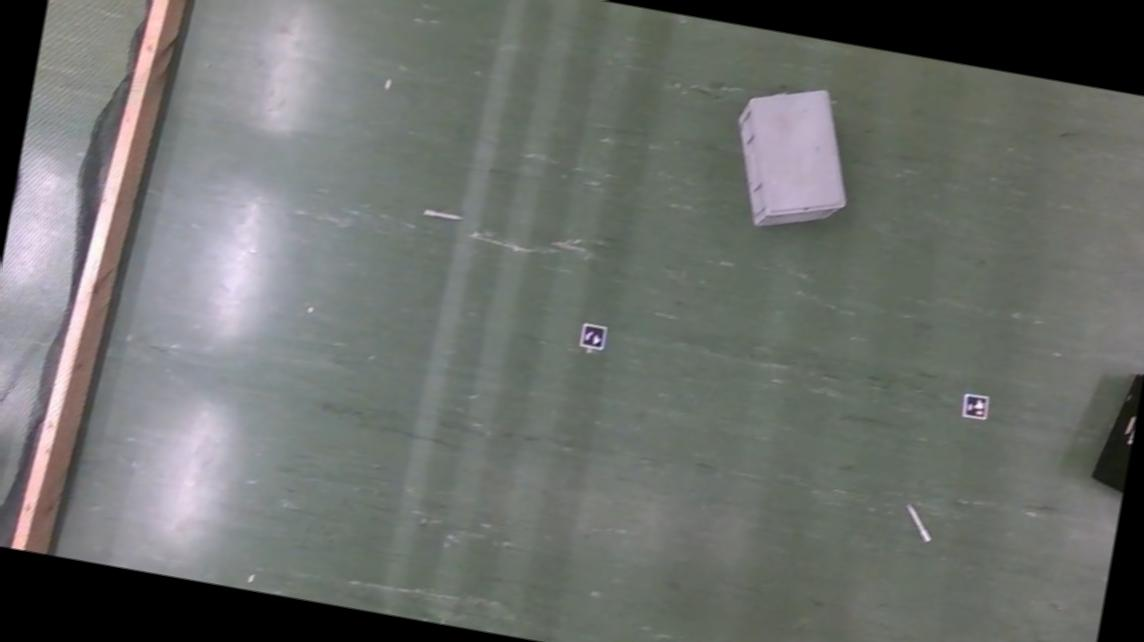probes: (900, 503, 938, 543), (422, 208, 464, 222)
rako: (720, 74, 864, 241), (1084, 357, 1144, 501)
